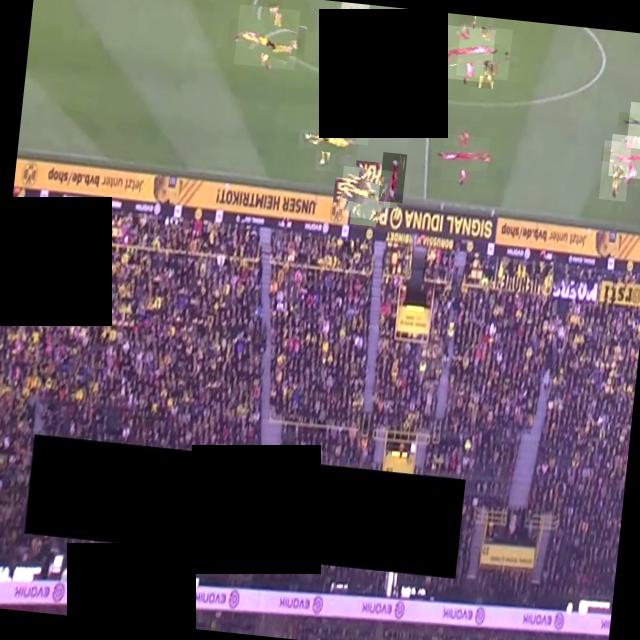referee: (624, 100, 640, 149)
soccer-player: (232, 3, 300, 69), (436, 23, 494, 81), (454, 23, 512, 79), (336, 164, 392, 220), (333, 0, 368, 74), (438, 132, 489, 182), (304, 118, 350, 162), (598, 139, 630, 200), (329, 100, 371, 144), (607, 132, 640, 178), (377, 150, 406, 202)
